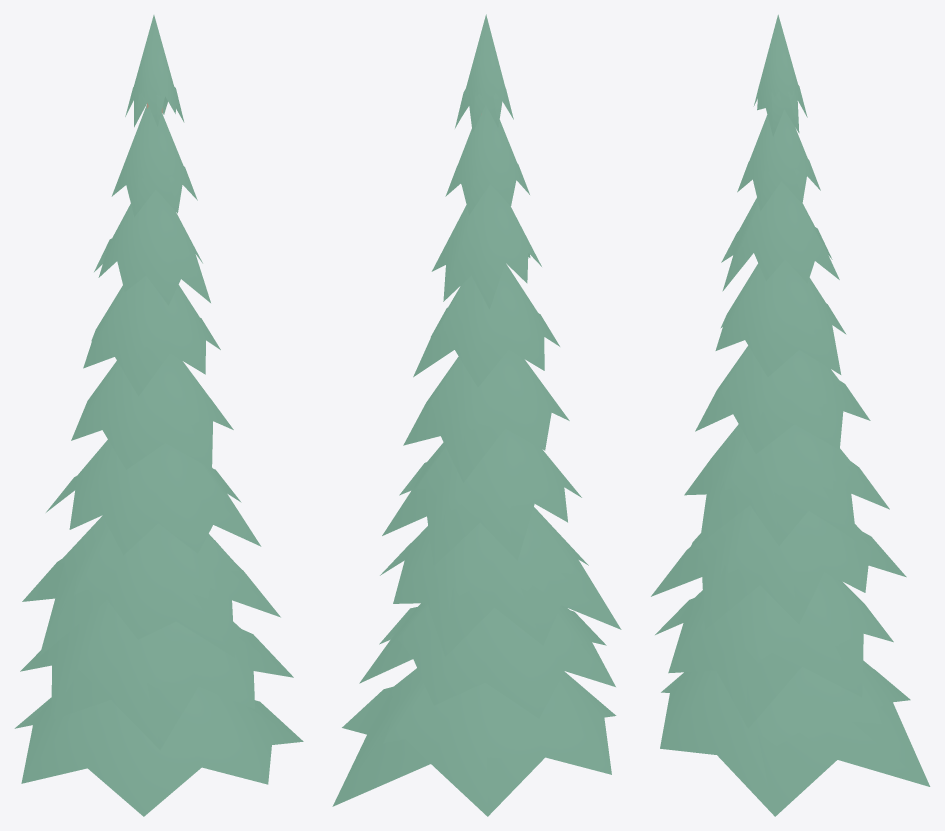
Rendered from Blender_Spruce_1_Far.glb.
3 renders of one model, left to right at view 1: azimuth 30°, elevation 25°; view 2: azimuth 150°, elevation 25°; view 3: azimuth 270°, elevation 25°, orthographic. The views are drawn at different scales.
Visible parts, largest first — view 1: Blender_Spruce_1_Far; view 2: Blender_Spruce_1_Far; view 3: Blender_Spruce_1_Far.
Part boxes in pixels (x1,y1,x2,y2): Blender_Spruce_1_Far: (14,15,303,816); Blender_Spruce_1_Far: (332,14,621,816); Blender_Spruce_1_Far: (651,14,930,816).
Bounding box in the file's own units: 8.9 × 23.45 × 8.06.
